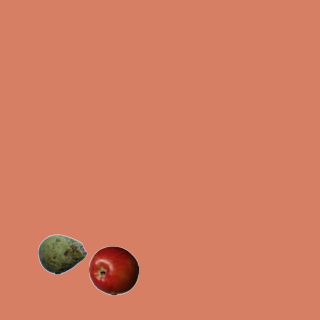Apple Braeburn: (88, 245, 138, 295)
Pear Stone: (37, 229, 87, 279)
